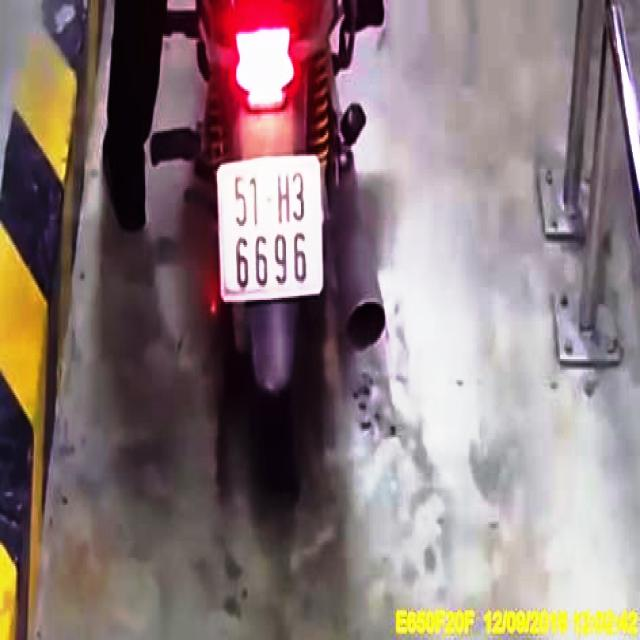license_plate: (221, 158, 324, 299)
